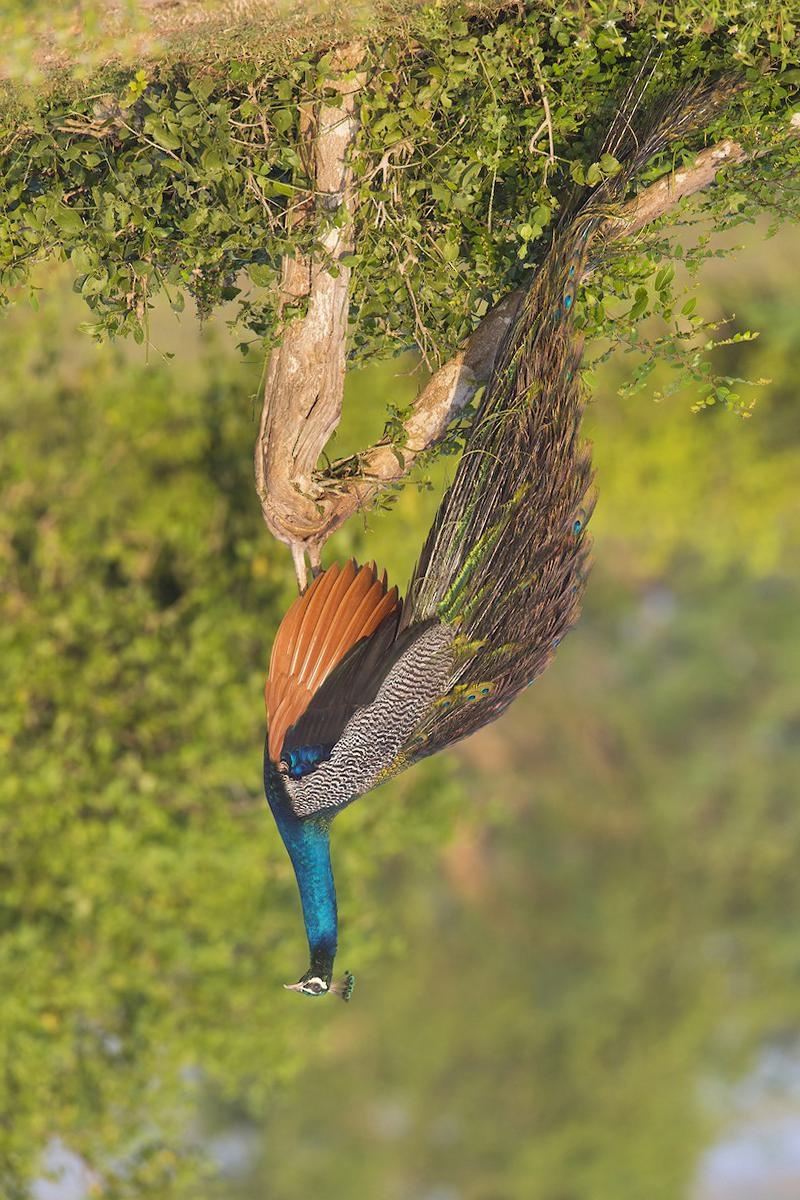peacock: (245, 353, 581, 1034)
